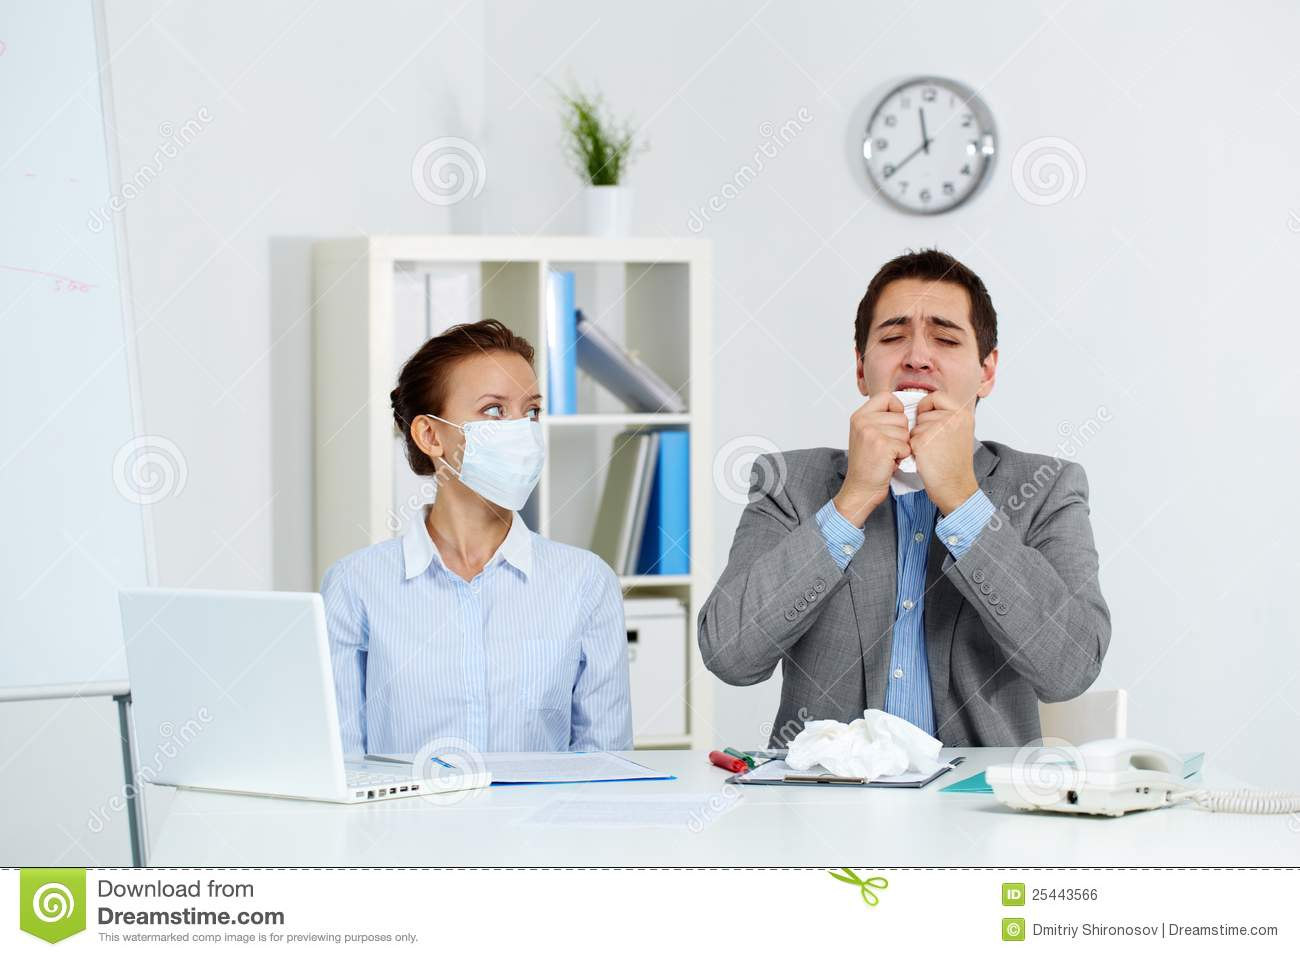mask: (450, 415, 550, 514)
